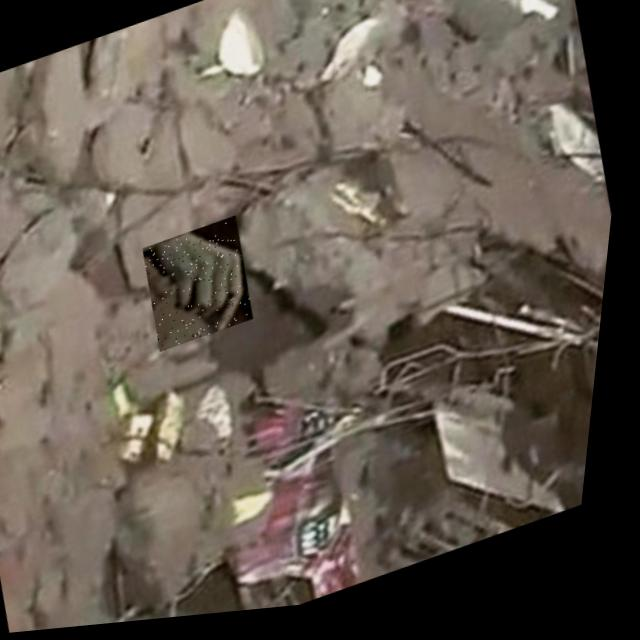Person in Rubble: (138, 218, 268, 358)
